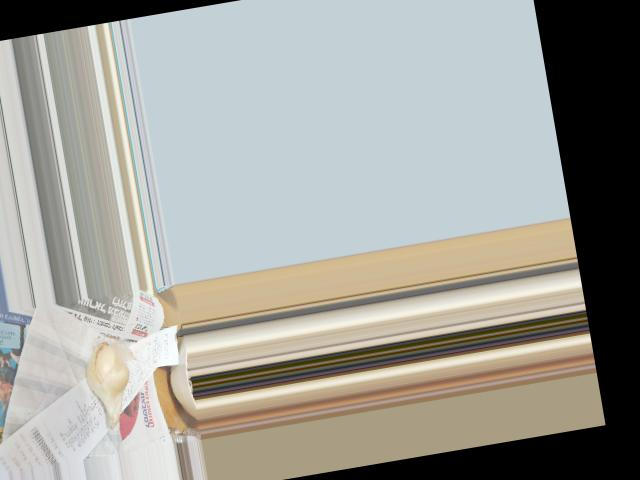onion: (80, 342, 135, 426)
